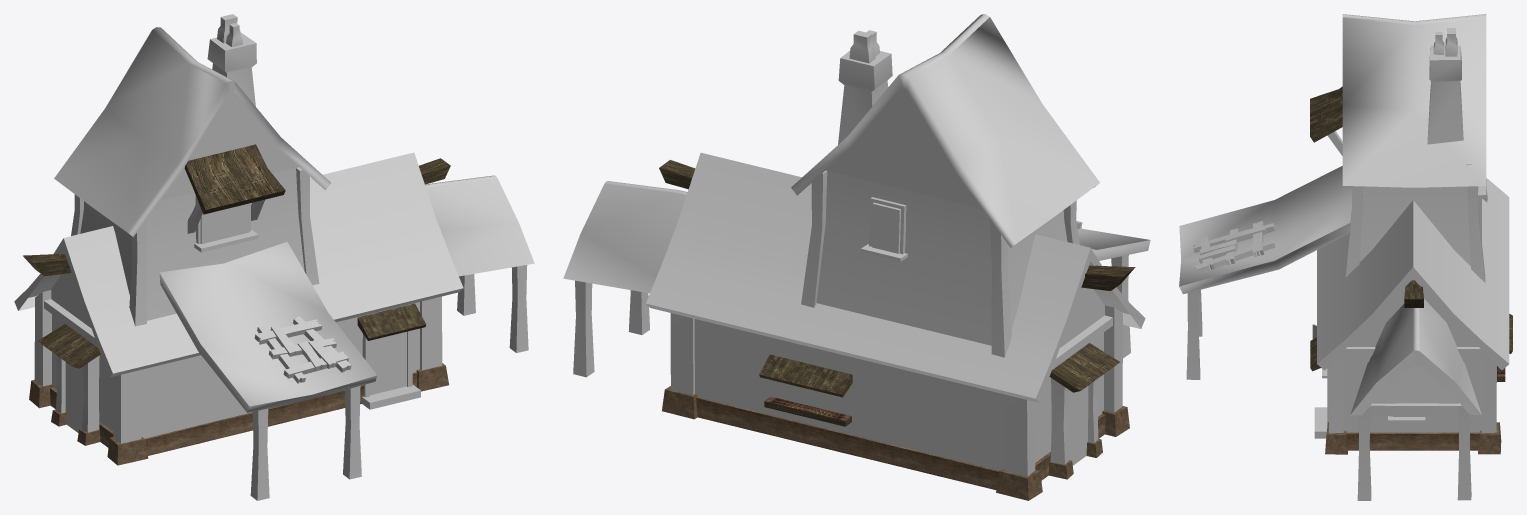
Rendered from house2.fbx.
3 views of the same model, side by side, from view 1: azimuth 30°, elevation 25°; view 2: azimuth 150°, elevation 25°; view 3: azimuth 270°, elevation 25° (orthographic). The views are drawn at different scales.
Parts seen in each view (by area): view 1: sp_p_house04_1__9_, House_01.005, House_01.010, Cube, House_01.003, sp_p_house04_1__9_.001, House_01.001, constr_03.001, chimney.001, House_01.007, column_01.010, column_01.001 (+4 smaller); view 2: sp_p_house04_1__9_, Cube, House_01.005, House_01.003, chimney.001, column_01.009, House_01.008, column_01.008, column_01.004, House_01.010, column_01.003; view 3: sp_p_house04_1__9_, House_01.005, House_01.010, House_01.003, Cube, chimney.001, constr_03.001, sp_p_house04_1__9_.001, House_01.004, column_01.004, column_01.008, column_01.003 (+3 smaller).
Boxes of the visible parts, x1,y1,x2,y2 form: sp_p_house04_1__9_: [14, 152, 463, 465]; House_01.005: [54, 27, 330, 236]; House_01.010: [159, 242, 377, 412]; Cube: [80, 94, 304, 320]; House_01.003: [425, 175, 534, 276]; sp_p_house04_1__9_.001: [184, 144, 285, 214]; House_01.001: [362, 330, 420, 409]; constr_03.001: [254, 316, 351, 383]; chimney.001: [207, 14, 256, 106]; House_01.007: [194, 195, 258, 252]; column_01.010: [129, 219, 147, 326]; column_01.001: [343, 386, 361, 479]; sp_p_house04_1__9_: [646, 152, 1145, 500]; Cube: [816, 88, 1067, 345]; House_01.005: [791, 14, 1099, 247]; House_01.003: [563, 181, 687, 293]; chimney.001: [838, 30, 892, 144]; column_01.009: [990, 220, 1011, 357]; House_01.008: [860, 197, 907, 261]; column_01.008: [801, 170, 827, 307]; column_01.004: [573, 280, 594, 377]; House_01.010: [1077, 228, 1150, 260]; column_01.003: [628, 290, 649, 334]; sp_p_house04_1__9_: [1310, 178, 1512, 454]; House_01.005: [1342, 14, 1486, 187]; House_01.010: [1179, 166, 1351, 294]; House_01.003: [1350, 298, 1481, 415]; Cube: [1349, 186, 1481, 266]; chimney.001: [1427, 28, 1463, 144]; constr_03.001: [1193, 221, 1275, 274]; sp_p_house04_1__9_.001: [1310, 86, 1342, 142]; House_01.004: [1370, 403, 1458, 416]; column_01.004: [1457, 403, 1471, 500]; column_01.008: [1466, 164, 1485, 282]; column_01.003: [1357, 406, 1371, 500].
Size of the model in its own units: 3523 by 2555 by 2204.
